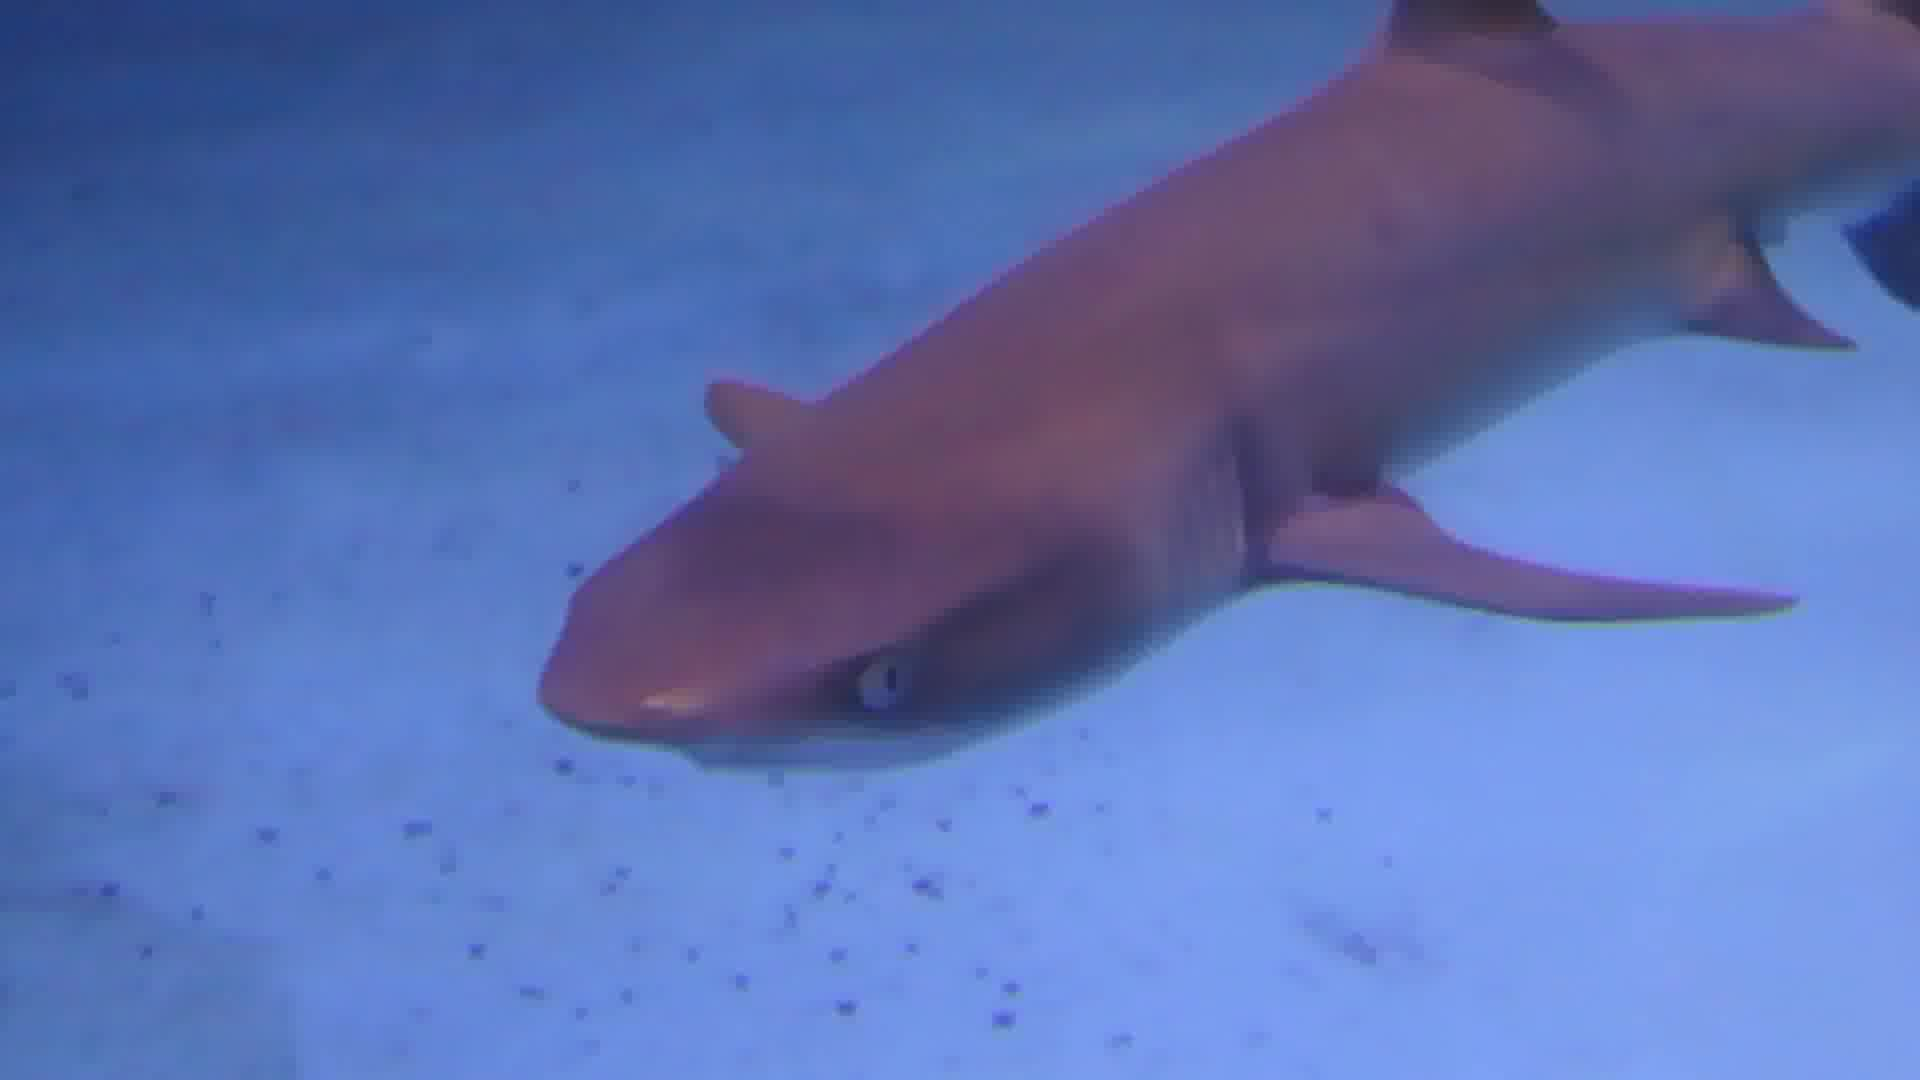Triaenodon obesus: (506, 1, 1920, 800)
